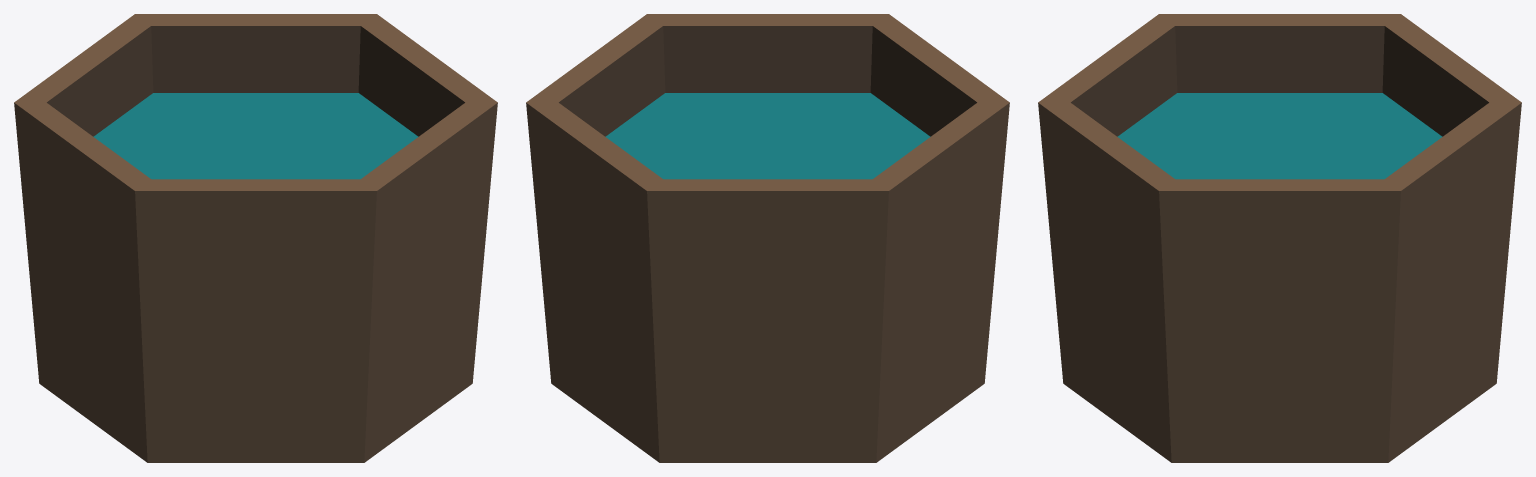
File: TB_D_Prop_Bucket_Water_A.FBX
3 views of the same model, side by side, from view 1: azimuth 30°, elevation 25°; view 2: azimuth 150°, elevation 25°; view 3: azimuth 270°, elevation 25° (orthographic).
Visible parts, largest first — view 1: TB_D_Prop_Bucket_Water_A; view 2: TB_D_Prop_Bucket_Water_A; view 3: TB_D_Prop_Bucket_Water_A.
Boxes of the visible parts, x1=… form: TB_D_Prop_Bucket_Water_A: x1=14, y1=14, x2=497, y2=462; TB_D_Prop_Bucket_Water_A: x1=526, y1=14, x2=1009, y2=462; TB_D_Prop_Bucket_Water_A: x1=1038, y1=14, x2=1521, y2=462.
Bounding box in the file's own units: 0.4708 × 0.3485 × 0.5436.
